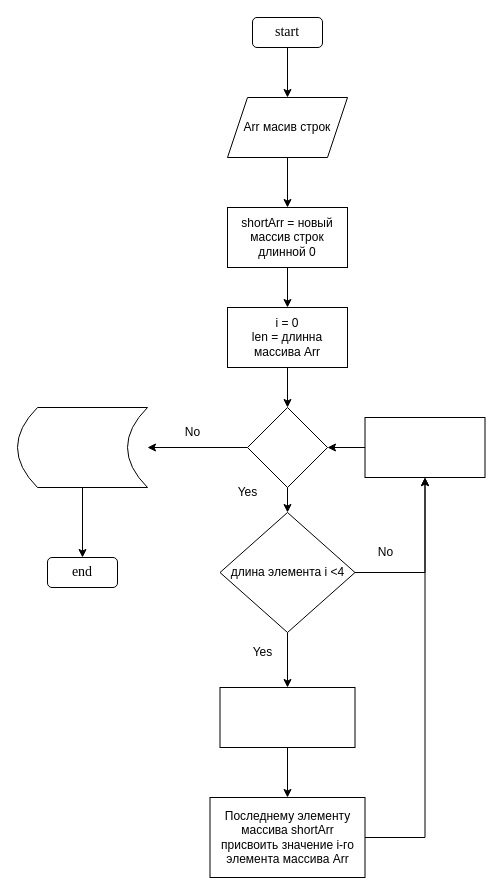
The diagram is 503 pixels wide and 895 high, and some of its shapes have lost their labels. Here are the shapes that lost their labels. From the top down, the box of each, then its label:
(16, 406, 148, 488): вернуть массив shortArr
(246, 406, 328, 488): i < len
(364, 416, 485, 478): i = i + 1
(219, 686, 355, 748): shortArr увеличить длинну массива на 1
